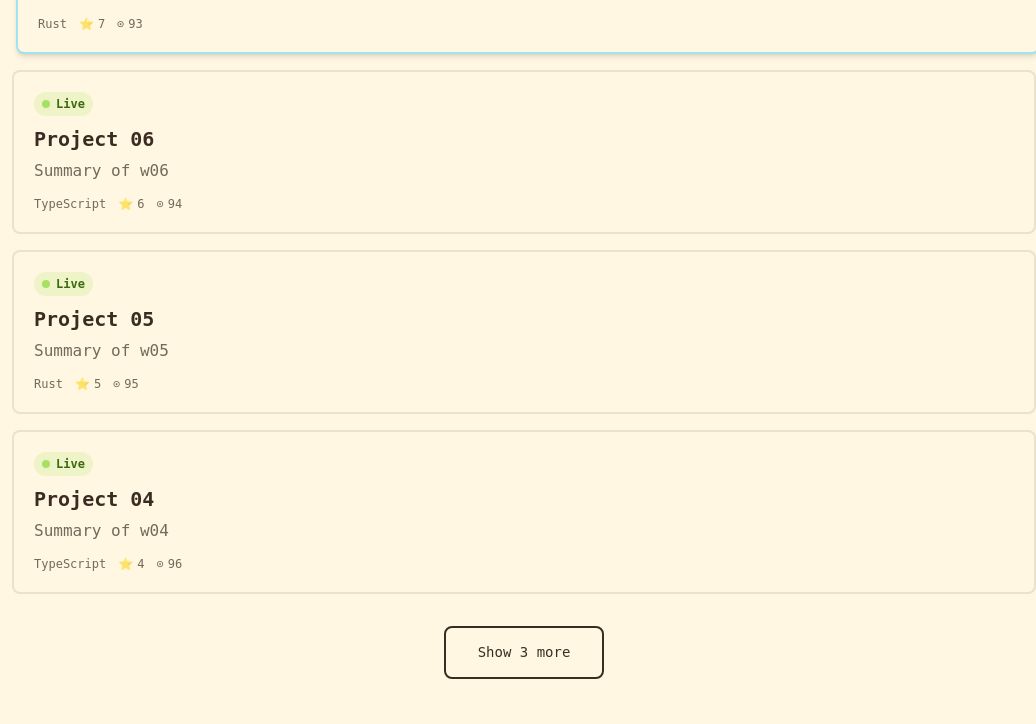
Test: FilterSort island › show-more (LIMIT=12) › resets to collapsed (12) when the SORT changes after expanding
This screenshot has width=1036, height=724.
(page scrolled)
Click the button with class "show-more-btn".
click(524, 653)  # box [444,626,604,679]
(page scrolled)
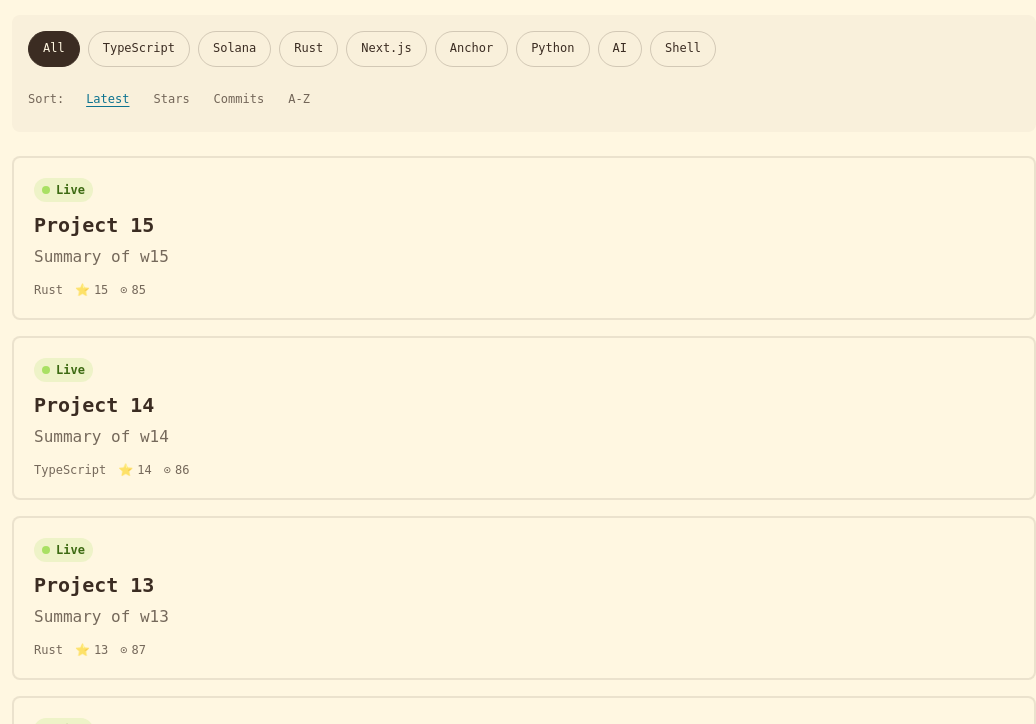
Click the button "Stars".
click(172, 99)  # box [144,83,200,116]
(page scrolled)
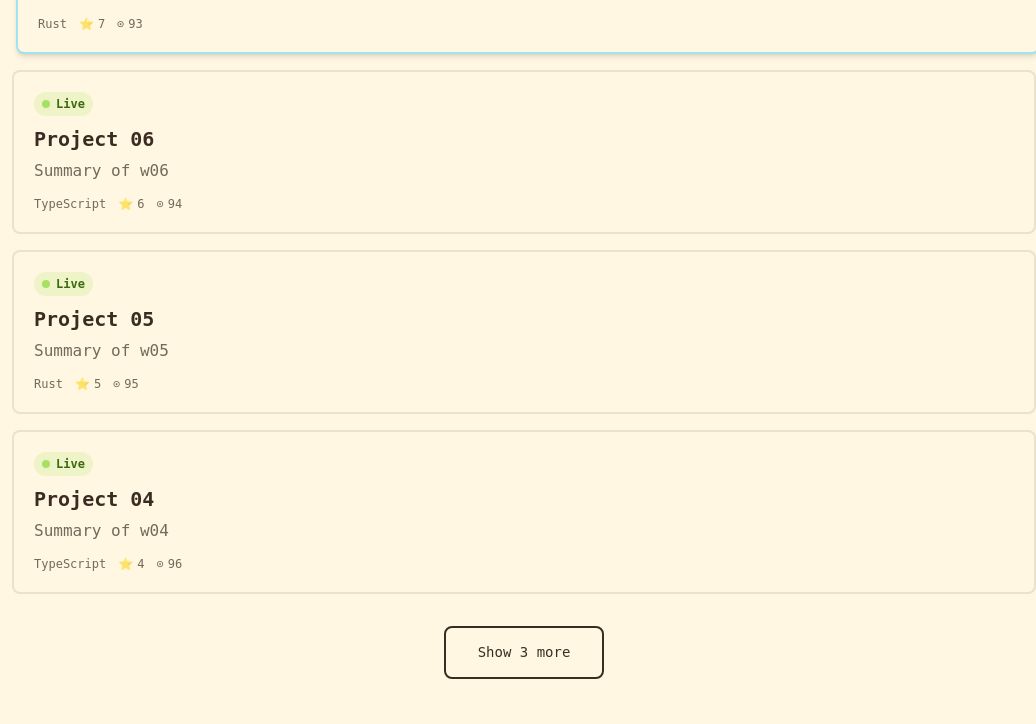
Expected: the button with class "show-more-btn" reads "Show 3 more", [444,626,604,679]
